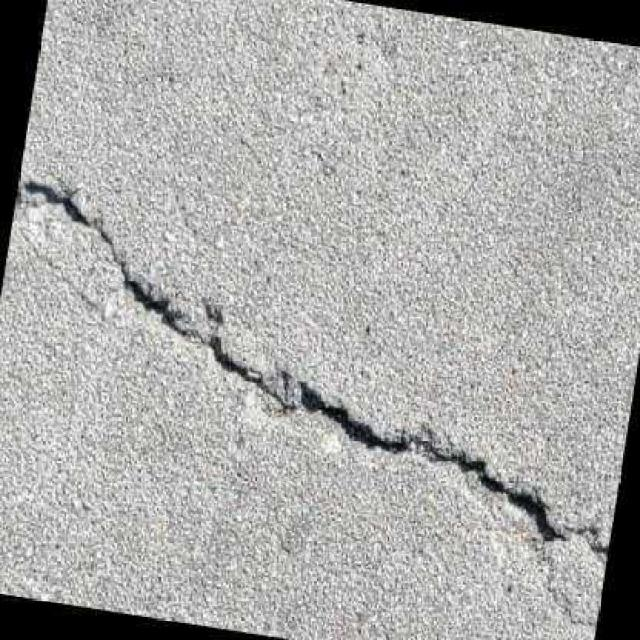D00: (15, 178, 609, 558)
